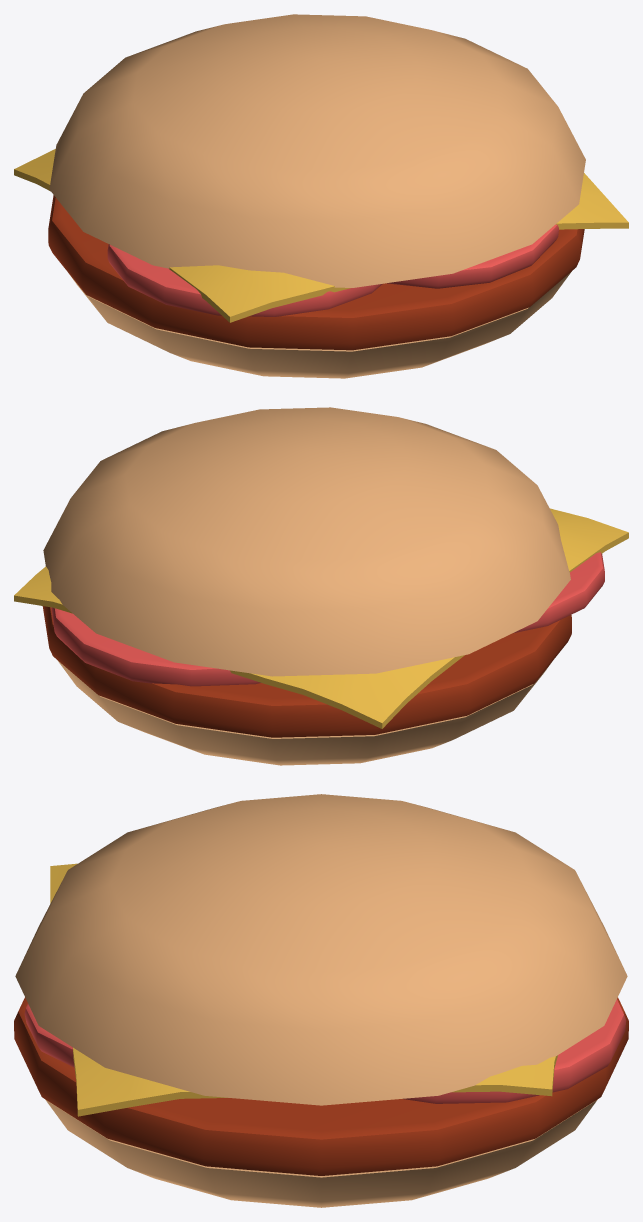
The model's file is Burger UVed.fbx.
The picture shows the model from 3 angles, top to bottom: view 1: azimuth 30°, elevation 25°; view 2: azimuth 150°, elevation 25°; view 3: azimuth 270°, elevation 25°; orthographic projection. The views are drawn at different scales.
Visible parts, largest first — view 1: polySurface1; view 2: polySurface1; view 3: polySurface1.
Part boxes in pixels (<box>): polySurface1: <box>14,14,628,378</box>; polySurface1: <box>14,407,628,765</box>; polySurface1: <box>14,794,628,1207</box>.
Bounding box in the file's own units: 14.88 × 7.11 × 14.8.
